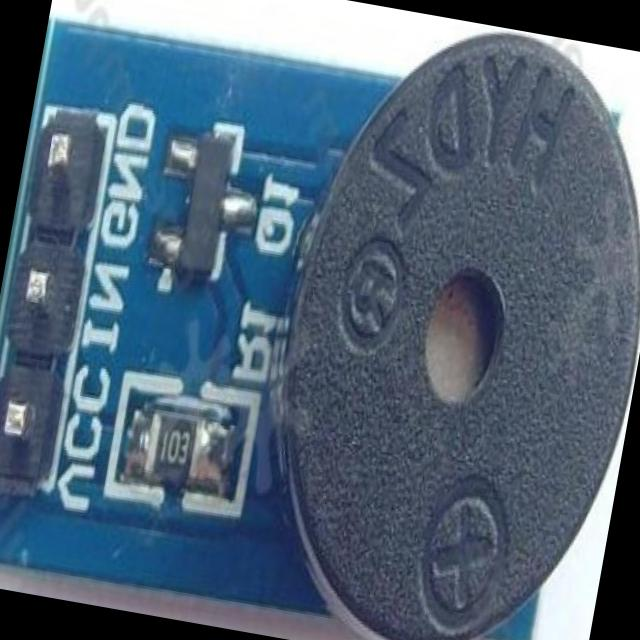connector: (0, 95, 120, 504)
resistor: (126, 374, 238, 494)
transistor: (142, 106, 276, 291)
